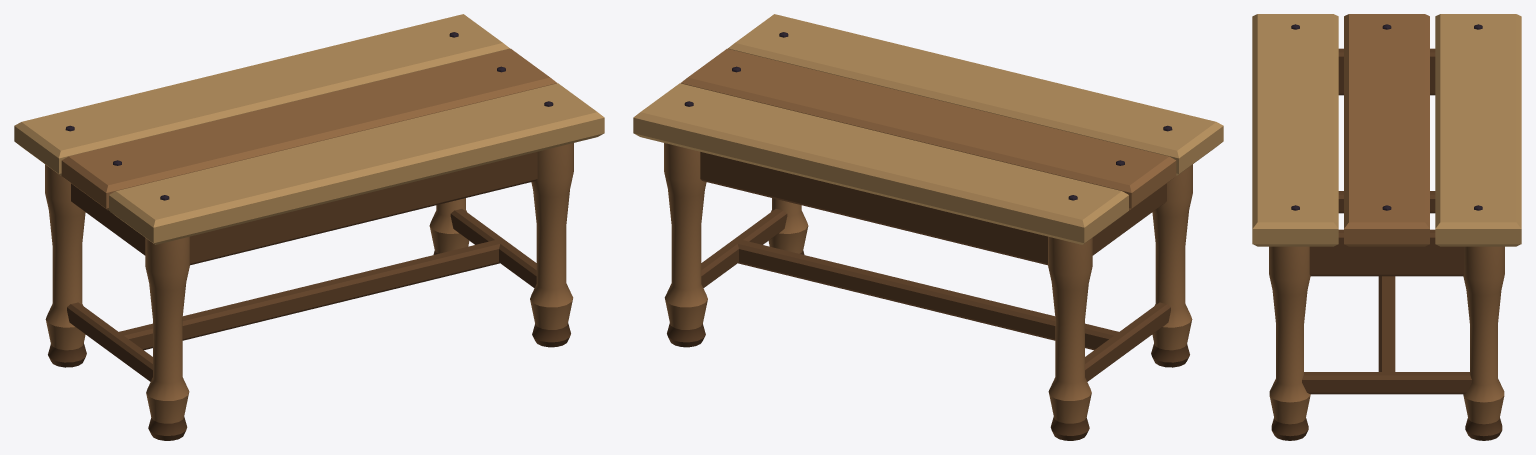
The model's file is Table_15.glb.
3 views of the same model, side by side, from view 1: azimuth 30°, elevation 25°; view 2: azimuth 150°, elevation 25°; view 3: azimuth 270°, elevation 25° (orthographic). The views are drawn at different scales.
Visible parts, largest first — view 1: Table_15; view 2: Table_15; view 3: Table_15.
Part boxes in pixels (x1,y1,x2,y2): Table_15: [14, 14, 604, 440]; Table_15: [633, 14, 1223, 440]; Table_15: [1252, 14, 1521, 440].
Bounding box in the file's own units: 6.02 × 3.01 × 3.22.
